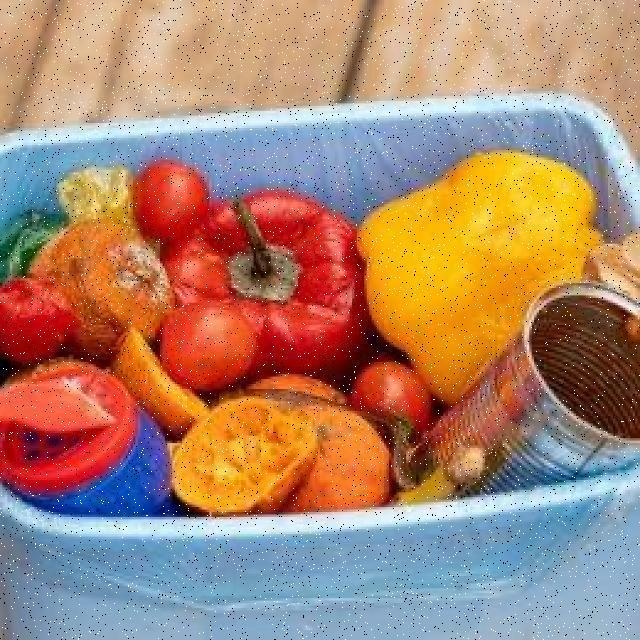Garbage: (0, 155, 601, 515), (530, 292, 640, 438)
Metal: (419, 283, 640, 493)
Plastic_bottle: (0, 360, 170, 514)
contaminated_waste: (416, 283, 640, 493)
